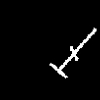double_crochet: (50, 28, 95, 77)
